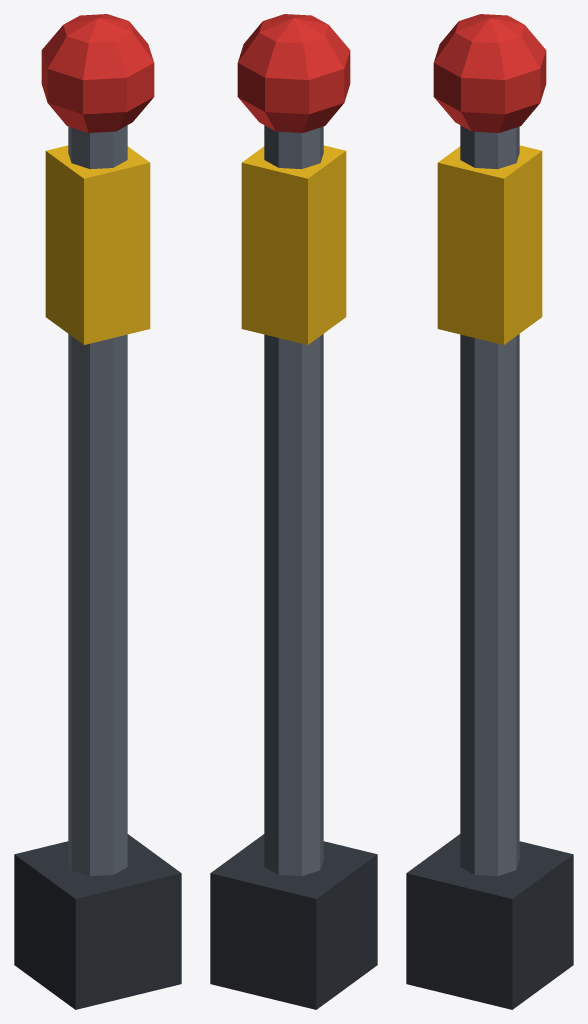
The model's file is prop_lift_lever.glb.
3 views of the same model, side by side, from view 1: azimuth 30°, elevation 25°; view 2: azimuth 150°, elevation 25°; view 3: azimuth 330°, elevation 25° (orthographic).
Parts seen in each view (by area): view 1: prop_lift_lever; view 2: prop_lift_lever; view 3: prop_lift_lever.
Boxes of the visible parts, box(x1,y1,x2,y2) form: prop_lift_lever: box(14, 14, 181, 1009); prop_lift_lever: box(210, 14, 377, 1009); prop_lift_lever: box(406, 14, 573, 1009).
Size of the model in its own units: 0.08 by 0.69 by 0.08.
1 material, 1 textured.
